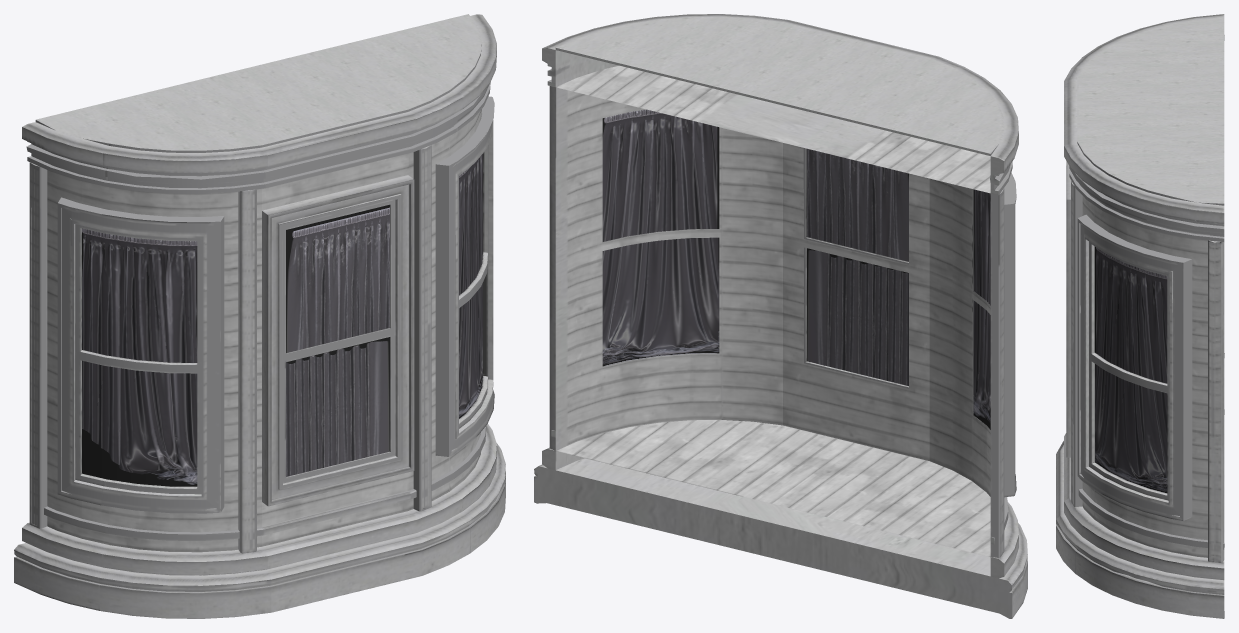
Rendered from baywindow-01.fbx.
3 views of the same model, side by side, from view 1: azimuth 30°, elevation 25°; view 2: azimuth 150°, elevation 25°; view 3: azimuth 270°, elevation 25° (orthographic). The views are drawn at different scales.
Visible parts, largest first — view 1: SM_Baywindow01.001; view 2: SM_Baywindow01.001; view 3: SM_Baywindow01.001.
Part boxes in pixels (bbox=[...]): SM_Baywindow01.001: bbox=[14, 14, 505, 618]; SM_Baywindow01.001: bbox=[534, 14, 1027, 618]; SM_Baywindow01.001: bbox=[1056, 14, 1224, 618].
Bounding box in the file's own units: 275 × 253 × 95.2.
2 materials, 2 textured.
